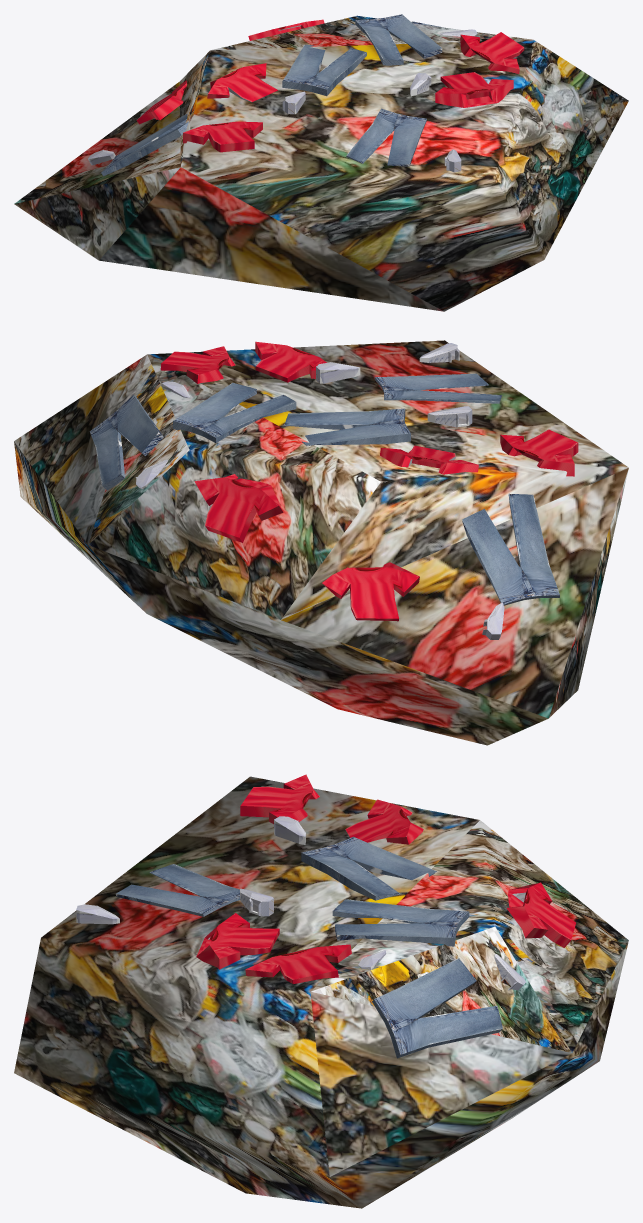
Rendered from CHECKSKRALD1.fbx.
The picture shows the model from 3 angles, top to bottom: view 1: azimuth 30°, elevation 25°; view 2: azimuth 150°, elevation 25°; view 3: azimuth 270°, elevation 25°; orthographic projection. The views are drawn at different scales.
Parts seen in each view (by area): view 1: Icosphere; view 2: Icosphere; view 3: Icosphere.
Boxes of the visible parts, left/top/right/bottom form: Icosphere: left=14, top=14, right=628, bottom=311; Icosphere: left=14, top=340, right=628, bottom=745; Icosphere: left=14, top=774, right=628, bottom=1208.
Size of the model in its own units: 139 by 44.1 by 107.
Materials: 4 (4 with a texture image).
